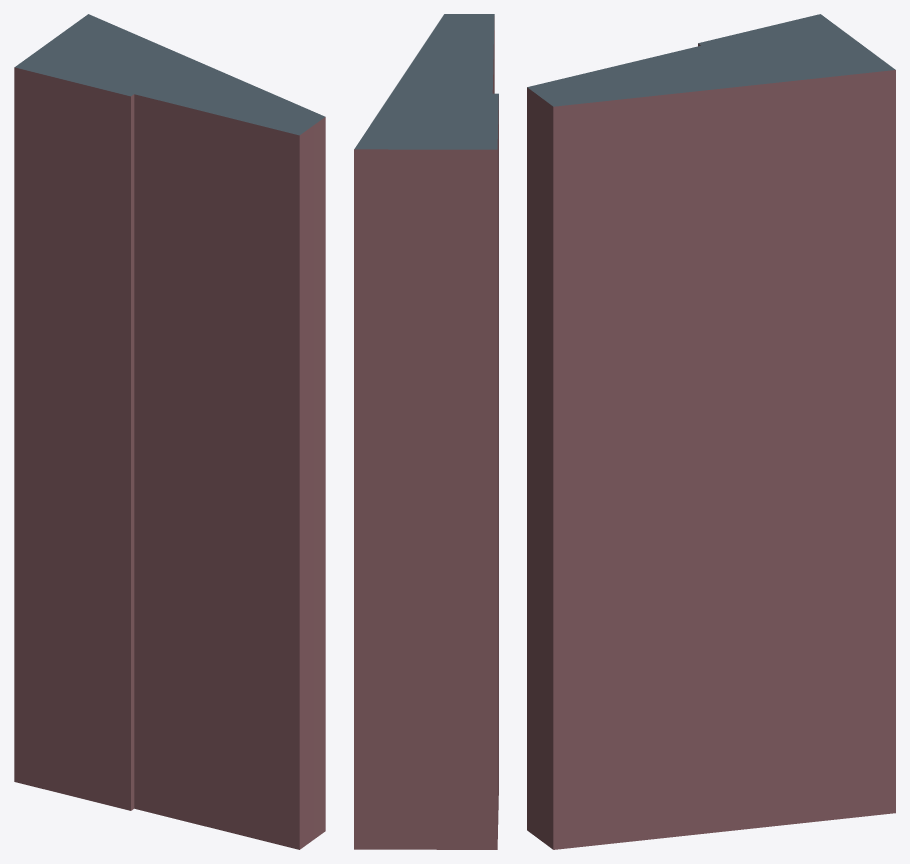
File: nyc-1022581-0.glb
The picture shows the model from 3 angles, left to right: view 1: azimuth 30°, elevation 25°; view 2: azimuth 150°, elevation 25°; view 3: azimuth 270°, elevation 25°; orthographic projection. The views are drawn at different scales.
Visible parts, largest first — view 1: nyc-1022581-0; view 2: nyc-1022581-0; view 3: nyc-1022581-0.
Boxes of the visible parts, x1=… form: nyc-1022581-0: x1=14, y1=14, x2=325, y2=849; nyc-1022581-0: x1=354, y1=14, x2=498, y2=849; nyc-1022581-0: x1=527, y1=14, x2=895, y2=849.
Bounding box in the file's own units: 27.49 × 103 × 46.19.
